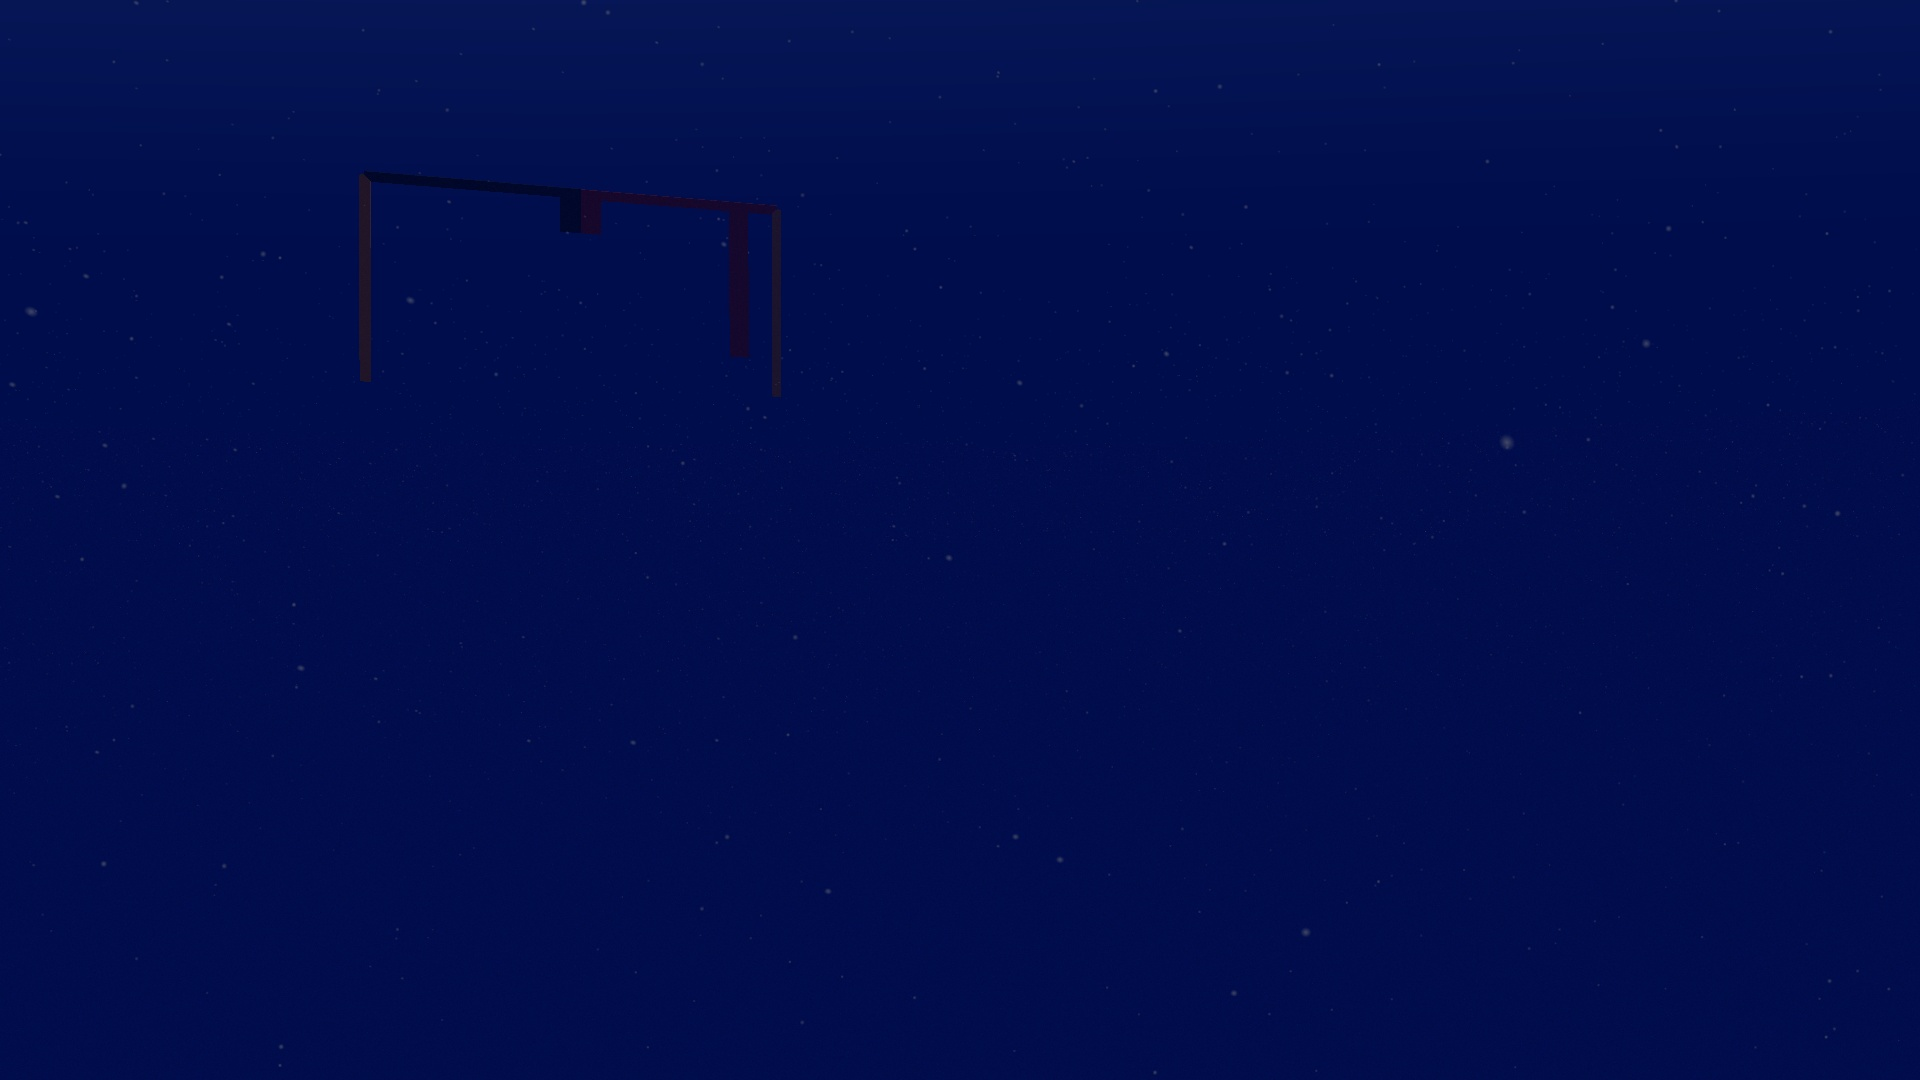Gate: (349, 157, 794, 407)
